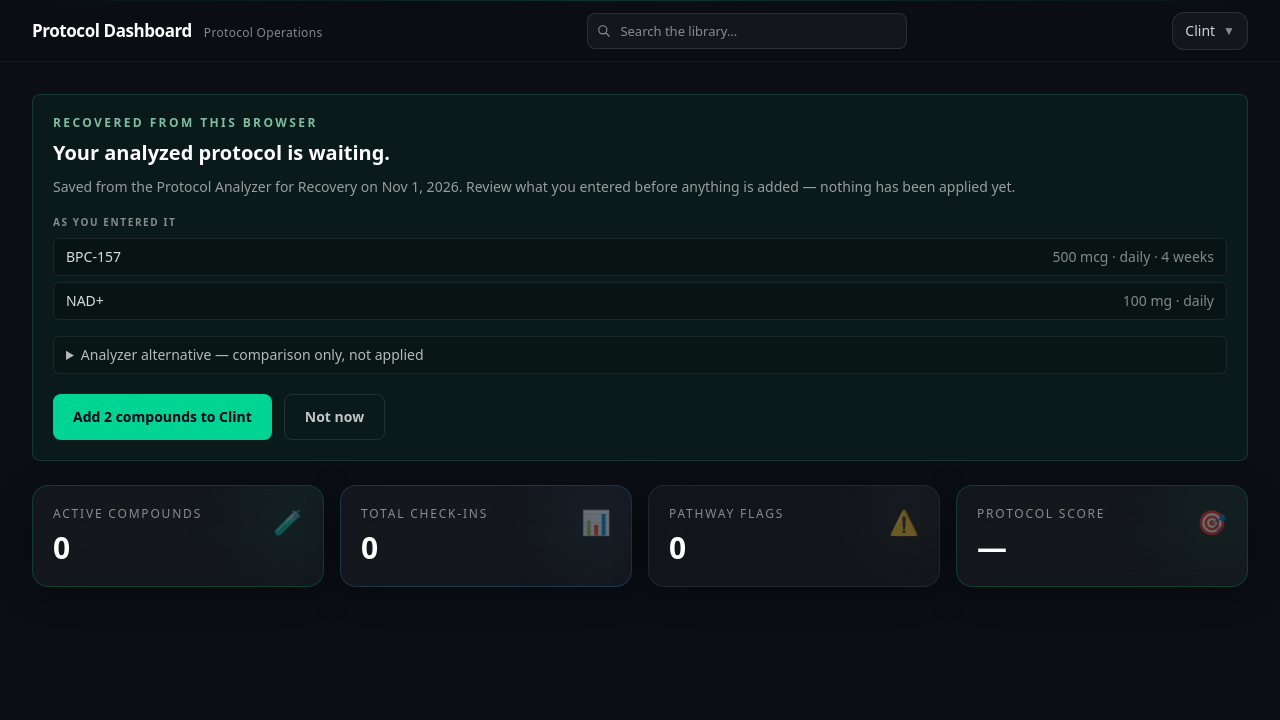
it: ProtocolConsole — analyzer draft continuation after sign-in › existing profile › lets the user defer without losing the draft
What coordinates should you click on to do the following:
click the button "Not now"
I would click on:
 (334, 417)
Its box is [284,394,385,440].
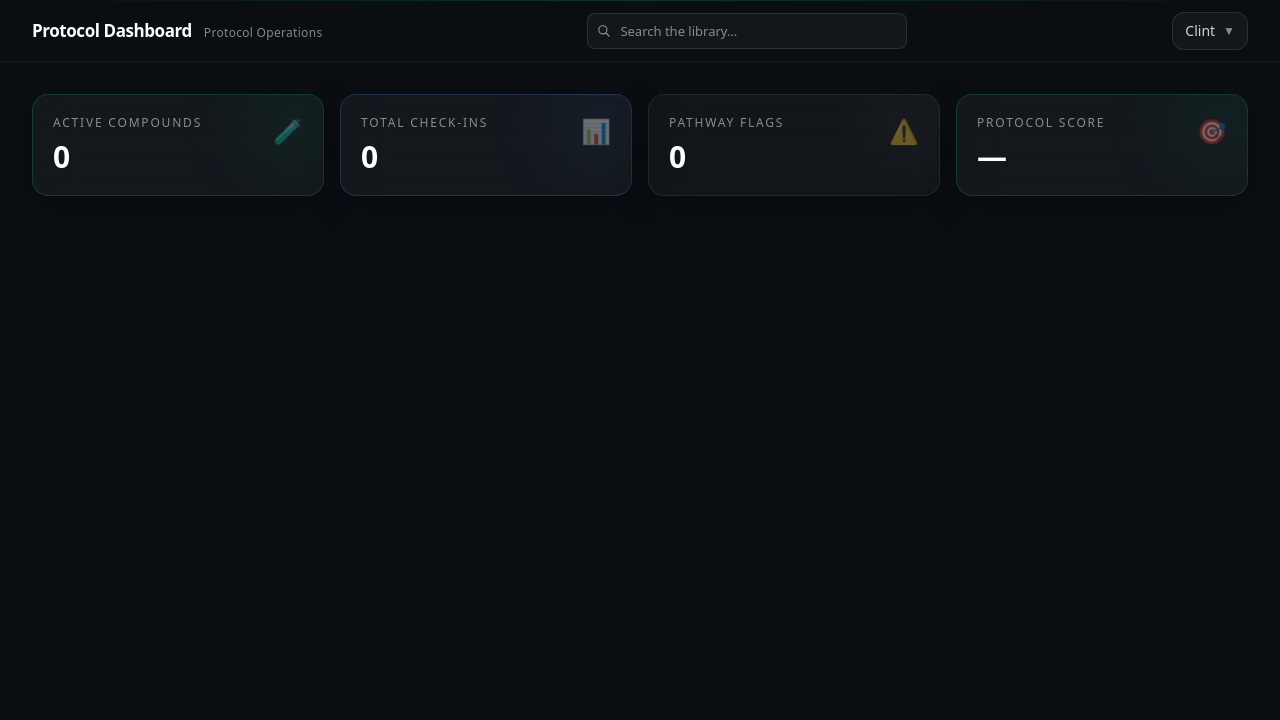
Expected: the heading "Your analyzed protocol is waiting." is gone
